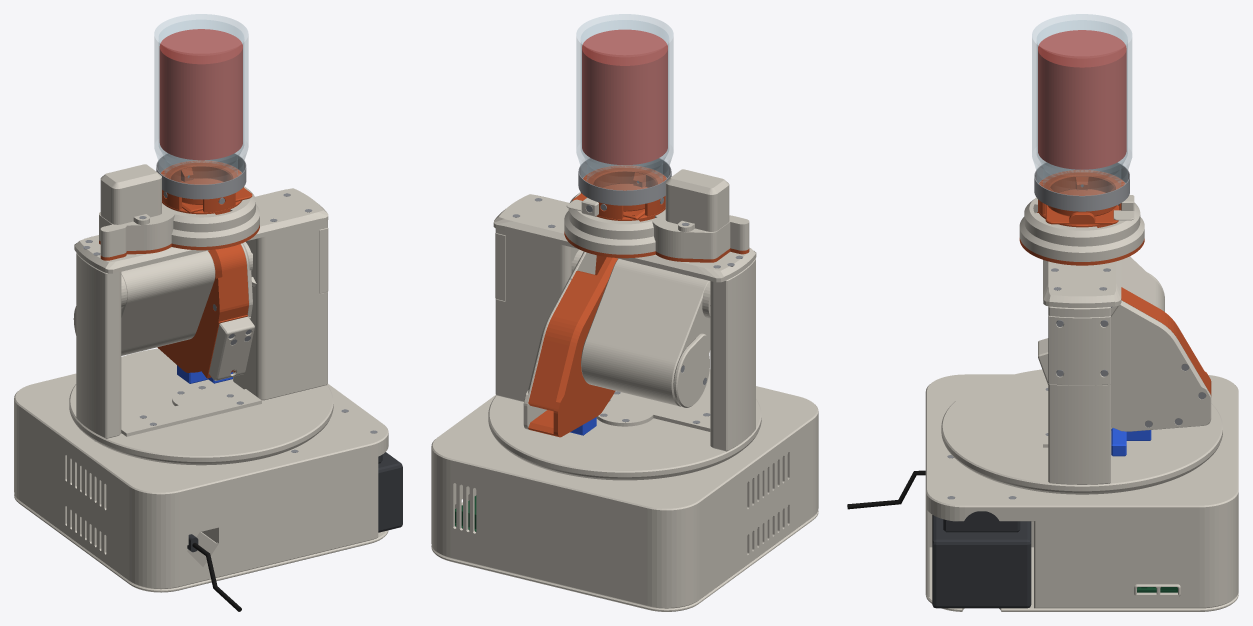
Rendered from assembly.glb.
The picture shows the model from 3 angles, left to right: view 1: azimuth 30°, elevation 25°; view 2: azimuth 150°, elevation 25°; view 3: azimuth 270°, elevation 25°; orthographic projection. The views are drawn at different scales.
Parts seen in each view (by area): view 1: PRT_base_shell, BUY_jar, PRT_turntable, PRT_post_R, BUY_mm_fill, PRT_post_L, PRT_nacelle, PRT_feeder_crown, PRT_launcher_body, PRT_beam, PRT_groove_cap, PRT_feeder_cover (+9 smaller); view 2: PRT_base_shell, BUY_jar, PRT_nacelle, PRT_turntable, BUY_mm_fill, PRT_launcher_body, PRT_post_R, PRT_post_L, PRT_feeder_crown, PRT_beam, PRT_feeder_cover, PRT_groove_cap (+9 smaller); view 3: PRT_base_shell, BUY_jar, PRT_turntable, BUY_mm_fill, PRT_launcher_cover, BUY_battery, PRT_post_R, PRT_feeder_crown, PRT_post_R_cover, PRT_beam, BUY_jar_band, PRT_jar_adapter (+7 smaller).
Boxes of the visible parts, x1=… form: PRT_base_shell: x1=14, y1=373, x2=388, y2=589; BUY_jar: x1=154, y1=14, x2=248, y2=184; PRT_turntable: x1=69, y1=348, x2=333, y2=465; PRT_post_R: x1=233, y1=220, x2=327, y2=400; BUY_mm_fill: x1=159, y1=29, x2=242, y2=160; PRT_post_L: x1=76, y1=253, x2=121, y2=438; PRT_nacelle: x1=121, y1=250, x2=215, y2=355; PRT_feeder_crown: x1=99, y1=186, x2=259, y2=257; PRT_launcher_body: x1=157, y1=244, x2=248, y2=378; PRT_beam: x1=74, y1=188, x2=328, y2=273; PRT_groove_cap: x1=121, y1=385, x2=261, y2=436; PRT_feeder_cover: x1=100, y1=164, x2=161, y2=224; PRT_base_shell: x1=431, y1=386, x2=818, y2=608; BUY_jar: x1=576, y1=14, x2=673, y2=190; PRT_nacelle: x1=581, y1=258, x2=710, y2=406; PRT_turntable: x1=488, y1=369, x2=761, y2=480; BUY_mm_fill: x1=582, y1=29, x2=667, y2=164; PRT_launcher_body: x1=528, y1=255, x2=617, y2=437; PRT_post_R: x1=495, y1=228, x2=571, y2=401; PRT_post_L: x1=710, y1=259, x2=755, y2=451; PRT_feeder_crown: x1=564, y1=192, x2=749, y2=259; PRT_beam: x1=493, y1=194, x2=756, y2=282; PRT_feeder_cover: x1=665, y1=169, x2=729, y2=232; PRT_groove_cap: x1=596, y1=391, x2=710, y2=431; PRT_base_shell: x1=925, y1=374, x2=1238, y2=608; BUY_jar: x1=1032, y1=14, x2=1131, y2=195; PRT_turntable: x1=941, y1=369, x2=1222, y2=494; BUY_mm_fill: x1=1038, y1=30, x2=1126, y2=169; PRT_launcher_cover: x1=1111, y1=300, x2=1211, y2=431; BUY_battery: x1=932, y1=515, x2=1031, y2=608; PRT_post_R: x1=1048, y1=306, x2=1110, y2=484; PRT_feeder_crown: x1=1019, y1=197, x2=1144, y2=261; PRT_post_R_cover: x1=1048, y1=315, x2=1110, y2=385; PRT_beam: x1=1043, y1=260, x2=1121, y2=307; BUY_jar_band: x1=1034, y1=162, x2=1129, y2=211; PRT_jar_adapter: x1=1039, y1=170, x2=1125, y2=216.
Size of the model in its own units: 245 by 433 by 300.
